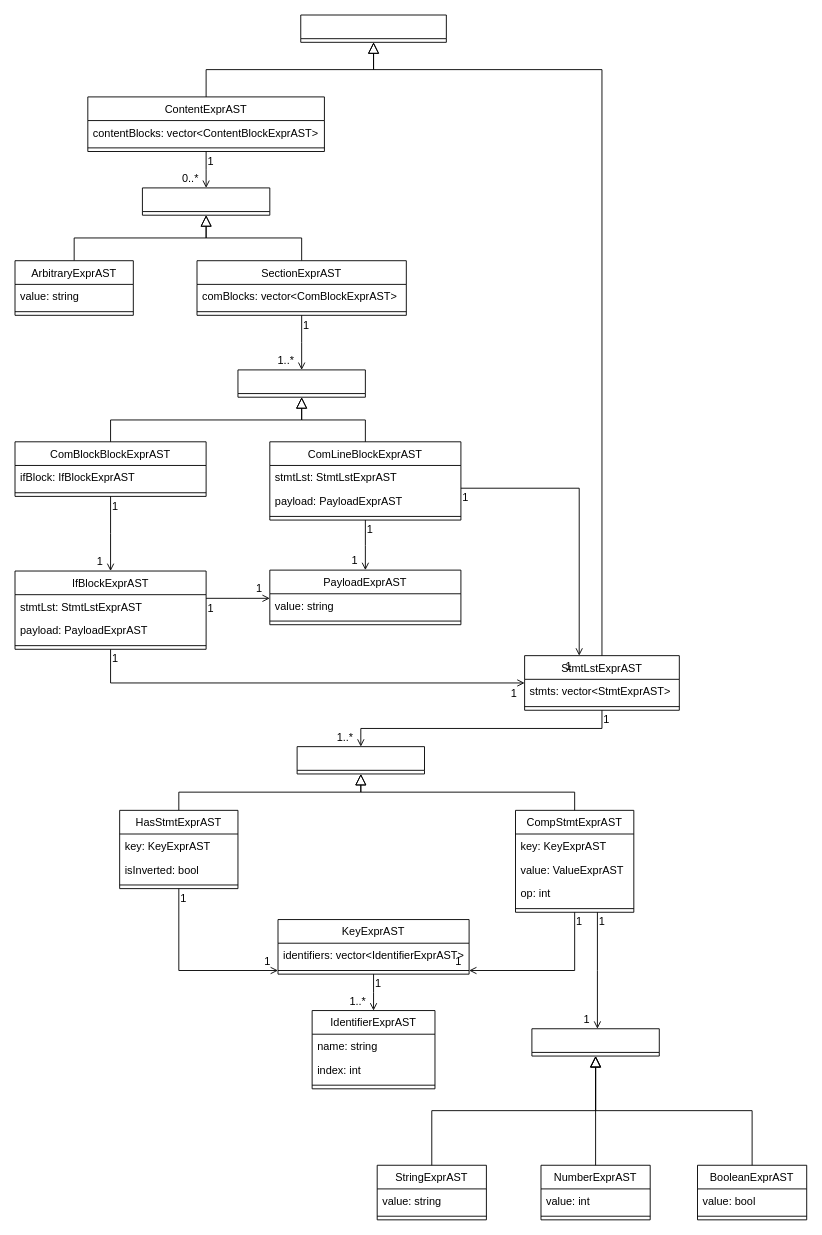
This 822x1235 diagram has some shape labels left out. Here are the shapes that lost their labels. From the top down, the centre of each, then its label:
At (x=373, y=28): "TopLevelExprAST".
At (x=206, y=201): "ContentBlockExprAST".
At (x=301, y=383): "ComBlockExprAST".
At (x=360, y=760): "StmtExprAST".
At (x=595, y=1042): "ValueExprAST".
